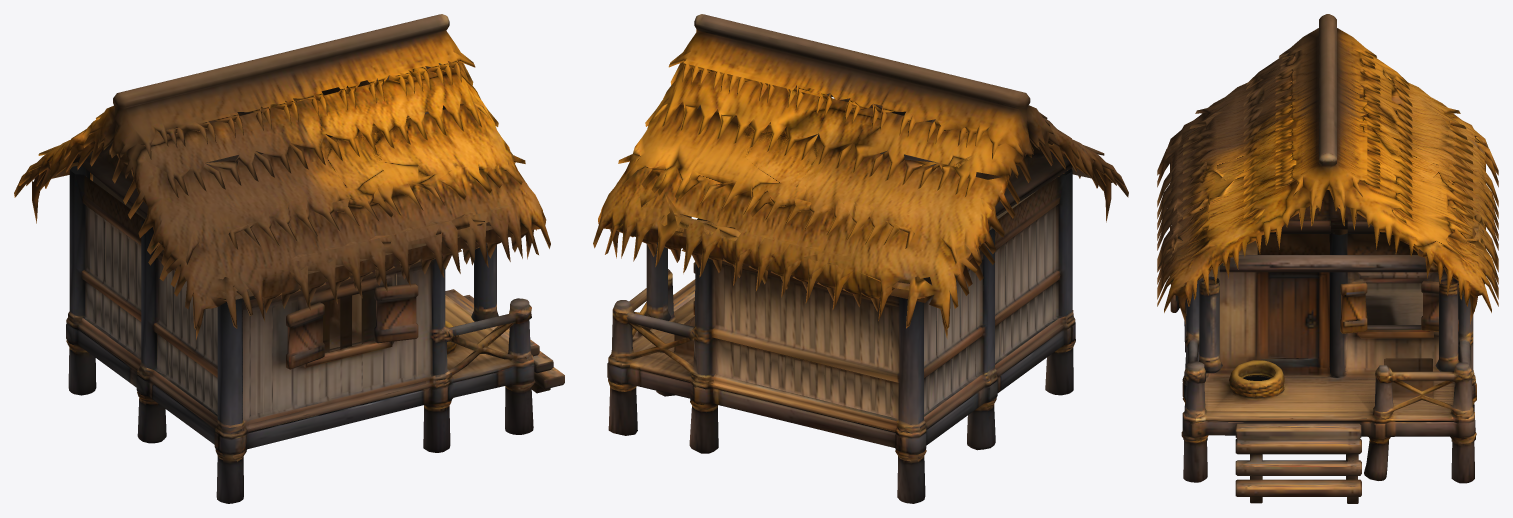
The model's file is hut-stilt-thatch-v2-original.glb.
The picture shows the model from 3 angles, left to right: view 1: azimuth 30°, elevation 25°; view 2: azimuth 150°, elevation 25°; view 3: azimuth 270°, elevation 25°; orthographic projection. The views are drawn at different scales.
Parts seen in each view (by area): view 1: tripo_node_e3c786c5-6224-4adf-950e-f1d62a6280cc; view 2: tripo_node_e3c786c5-6224-4adf-950e-f1d62a6280cc; view 3: tripo_node_e3c786c5-6224-4adf-950e-f1d62a6280cc.
Part boxes in pixels (box(x1,y1,x2,y2)): tripo_node_e3c786c5-6224-4adf-950e-f1d62a6280cc: box(14, 14, 564, 503); tripo_node_e3c786c5-6224-4adf-950e-f1d62a6280cc: box(593, 14, 1128, 503); tripo_node_e3c786c5-6224-4adf-950e-f1d62a6280cc: box(1157, 14, 1498, 503).
Size of the model in its own units: 1 by 0.8297 by 0.7926.
1 material, 1 textured.
